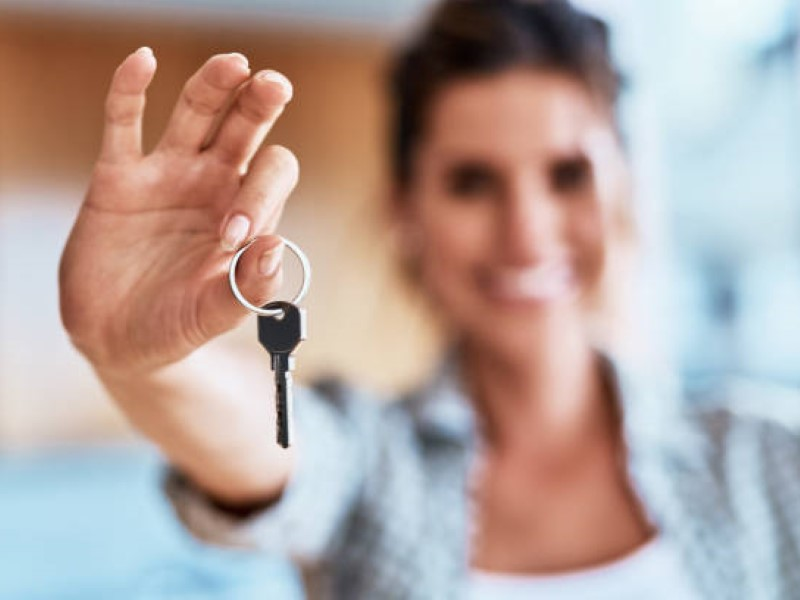key: (252, 294, 308, 450)
